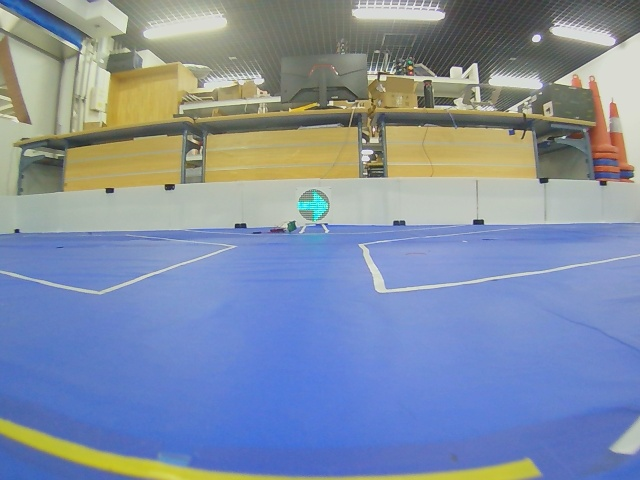right_green: (298, 189, 330, 222)
